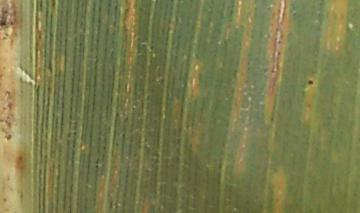tarspot: (307, 77, 314, 86)
